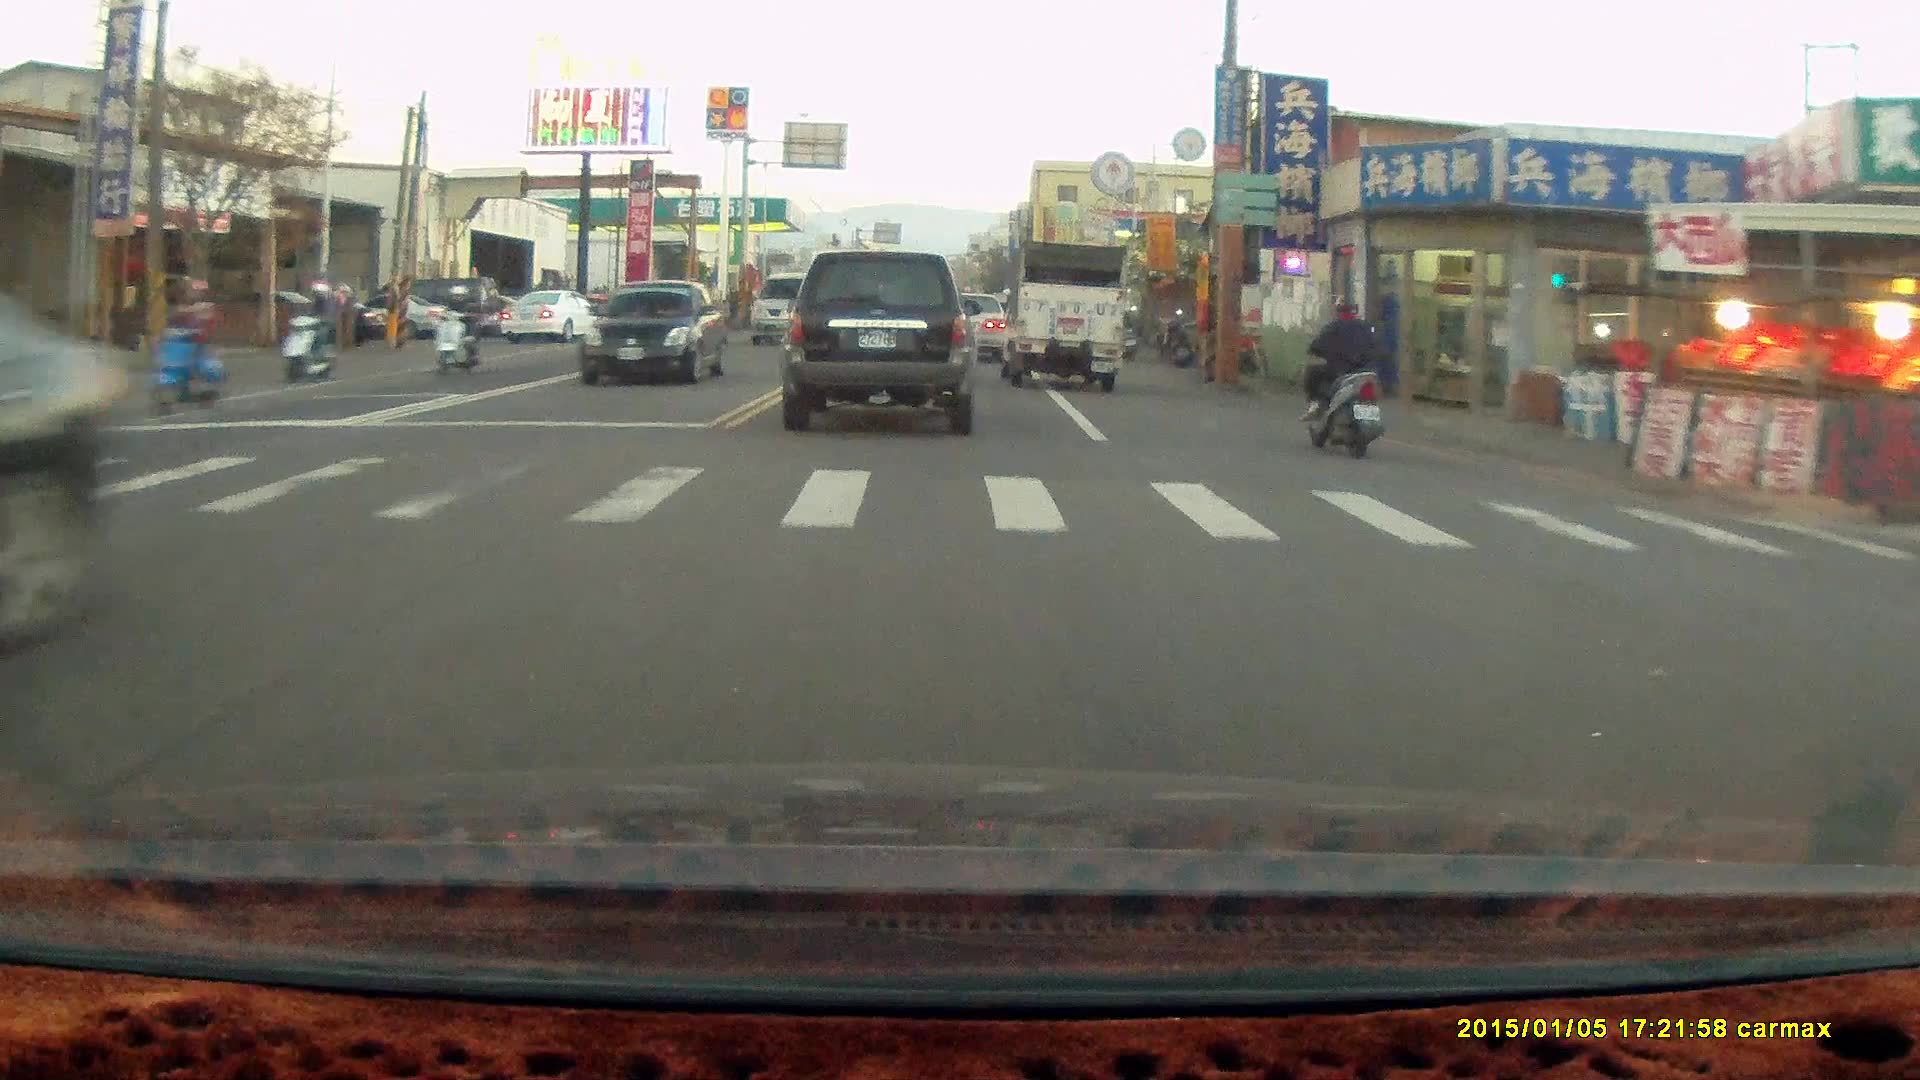rider: (1292, 287, 1384, 452), (139, 272, 220, 412), (277, 279, 344, 383), (431, 283, 484, 374)
vehicle: (776, 252, 983, 436), (995, 241, 1125, 393), (584, 281, 731, 386), (748, 271, 834, 346), (510, 292, 614, 349), (935, 292, 1009, 366)
